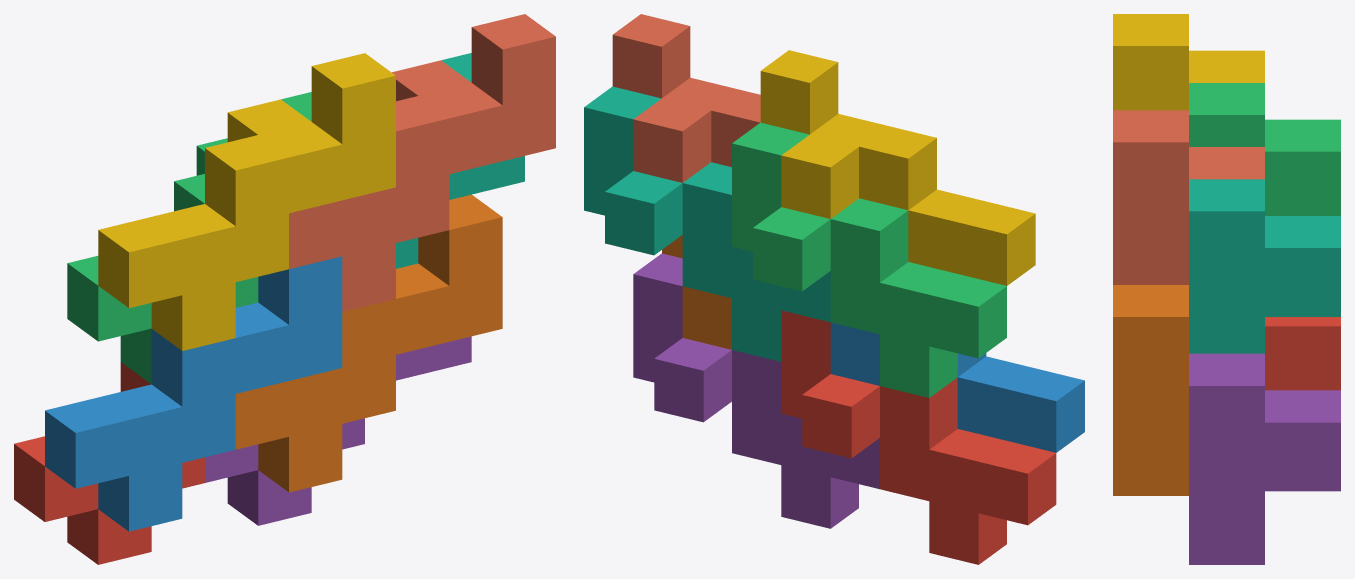
The model's file is tiling.obj.
The picture shows the model from 3 angles, left to right: view 1: azimuth 30°, elevation 25°; view 2: azimuth 150°, elevation 25°; view 3: azimuth 270°, elevation 25°; orthographic projection. The views are drawn at different scales.
Visible parts, largest first — view 1: copy_1_domain_4, copy_1_domain_2, copy_1_domain_8, copy_1_domain_6, copy_1_domain_1, copy_1_domain_3, copy_1_domain_5, copy_1_domain_7; view 2: copy_1_domain_3, copy_1_domain_1, copy_1_domain_4, copy_1_domain_7, copy_1_domain_5, copy_1_domain_8, copy_1_domain_2, copy_1_domain_6; view 3: copy_1_domain_5, copy_1_domain_7, copy_1_domain_6, copy_1_domain_8, copy_1_domain_3, copy_1_domain_4, copy_1_domain_1.
Part boxes in pixels (x1=…): copy_1_domain_4: x1=98, y1=53, x2=395, y2=350; copy_1_domain_2: x1=45, y1=256, x2=342, y2=531; copy_1_domain_8: x1=289, y1=14, x2=555, y2=311; copy_1_domain_6: x1=235, y1=194, x2=502, y2=492; copy_1_domain_1: x1=14, y1=362, x2=204, y2=564; copy_1_domain_3: x1=67, y1=92, x2=311, y2=383; copy_1_domain_5: x1=205, y1=336, x2=471, y2=525; copy_1_domain_7: x1=396, y1=53, x2=524, y2=268; copy_1_domain_3: x1=732, y1=122, x2=1006, y2=397; copy_1_domain_1: x1=781, y1=310, x2=1056, y2=564; copy_1_domain_4: x1=760, y1=50, x2=1035, y2=285; copy_1_domain_7: x1=584, y1=86, x2=830, y2=361; copy_1_domain_5: x1=633, y1=253, x2=879, y2=528; copy_1_domain_8: x1=612, y1=14, x2=760, y2=182; copy_1_domain_2: x1=830, y1=322, x2=1084, y2=452; copy_1_domain_6: x1=662, y1=235, x2=731, y2=349; copy_1_domain_5: x1=1189, y1=353, x2=1340, y2=564; copy_1_domain_7: x1=1189, y1=179, x2=1340, y2=353; copy_1_domain_6: x1=1113, y1=285, x2=1188, y2=495; copy_1_domain_8: x1=1113, y1=110, x2=1264, y2=284; copy_1_domain_3: x1=1189, y1=83, x2=1340, y2=215; copy_1_domain_4: x1=1113, y1=14, x2=1264, y2=110; copy_1_domain_1: x1=1265, y1=317, x2=1340, y2=390.
Bounding box in the file's own units: 9 × 8 × 3.
